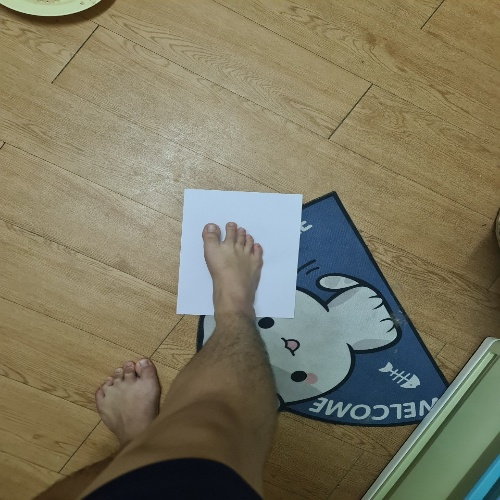Top_Foot: (201, 222, 262, 316)
